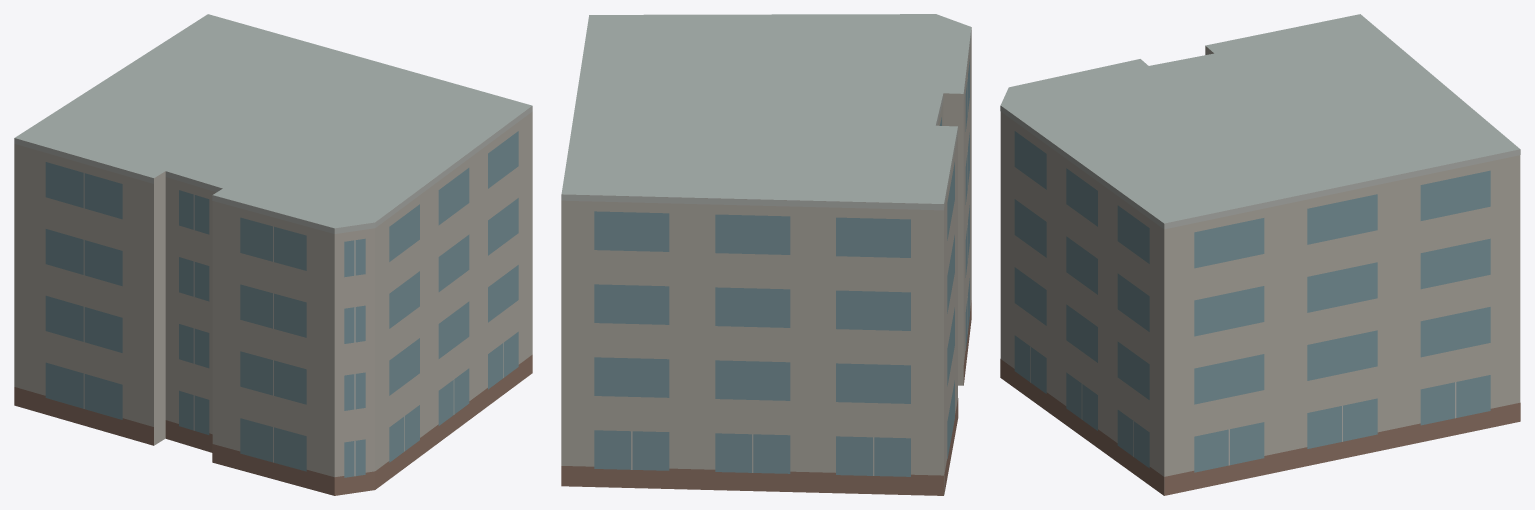
File: survey-upis-32912956.glb
3 renders of one model, left to right at view 1: azimuth 30°, elevation 25°; view 2: azimuth 150°, elevation 25°; view 3: azimuth 270°, elevation 25°, orthographic. The views are drawn at different scales.
Parts seen in each view (by area): view 1: survey-upis-32912956.tmp; view 2: survey-upis-32912956.tmp; view 3: survey-upis-32912956.tmp.
Part boxes in pixels (box(x1,y1,x2,y2)): survey-upis-32912956.tmp: box(14, 14, 532, 495); survey-upis-32912956.tmp: box(561, 14, 971, 495); survey-upis-32912956.tmp: box(1000, 14, 1520, 495).
Size of the model in its own units: 18.65 by 11.3 by 19.56.
